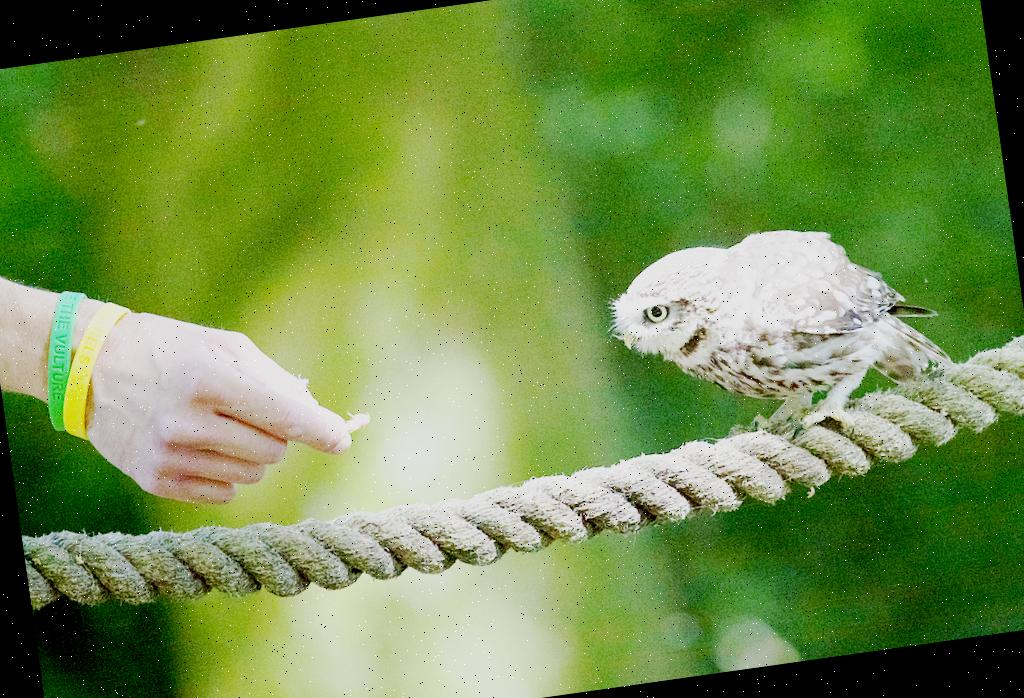Owl: (598, 205, 961, 455)
